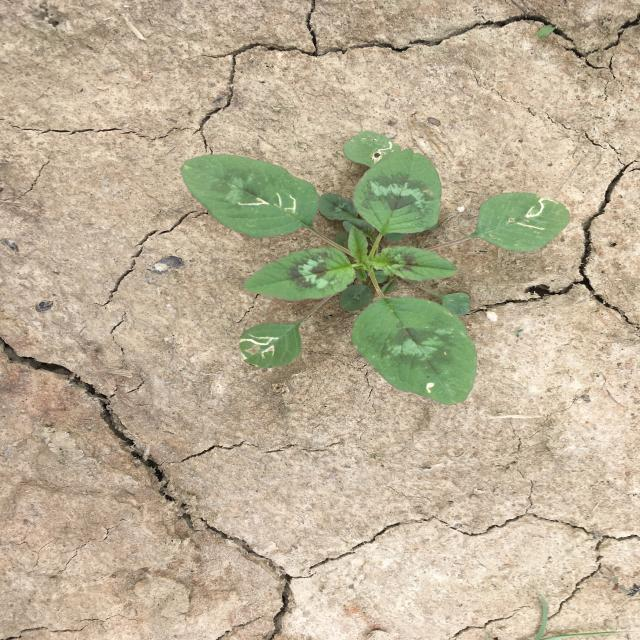PalmerAmaranth: (181, 130, 570, 405)
